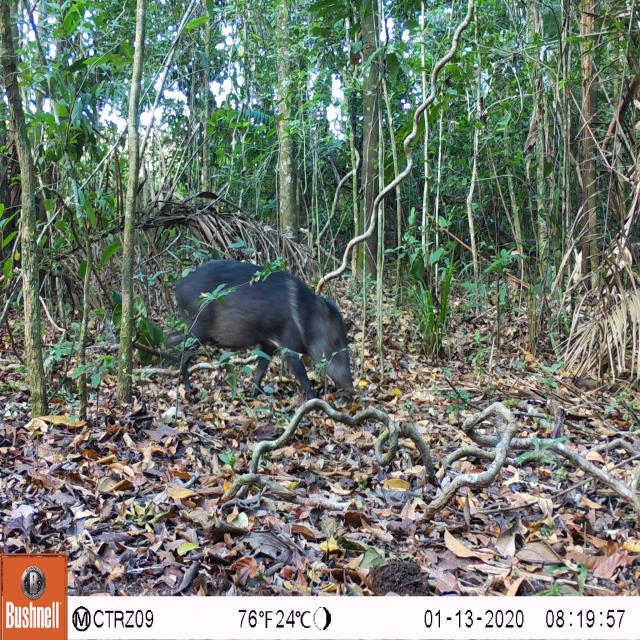White-lipped Peccary: (145, 250, 375, 421)
